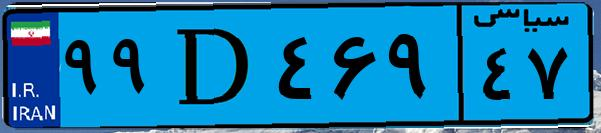4: (270, 28, 330, 110), (475, 38, 525, 113)
6: (330, 28, 385, 110)
7: (525, 38, 570, 115)
9: (385, 28, 445, 110), (57, 26, 110, 100), (110, 28, 158, 98)
D: (158, 12, 270, 120)
